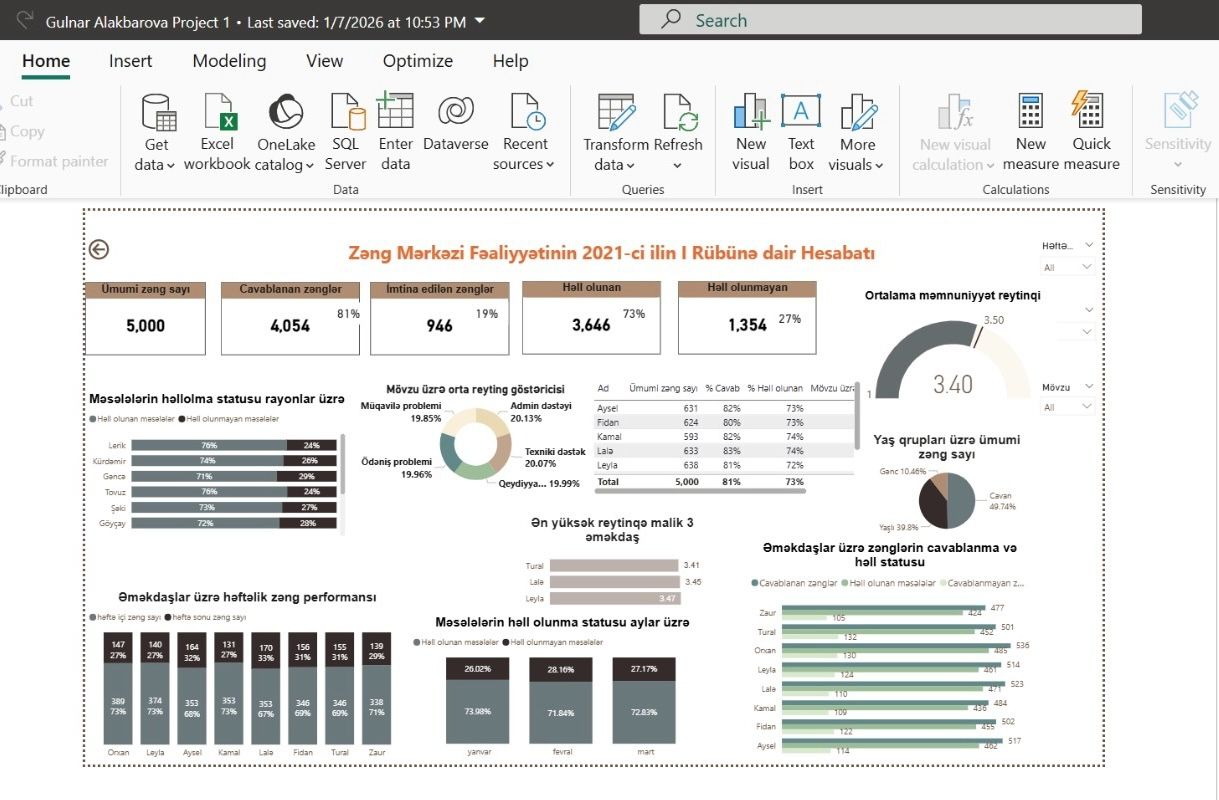

The page's visual inventory and layout, read from the dashboard file:
{"tool":"powerbi","page":{"name":"Call center Hesabat","canvas":[1500,780],"ordinal":0},"visuals":[{"type":"textbox","box":[276.8,0,1001,55.4],"z":0},{"type":"card","title":"Ümumi zəng sayı","fields":{"Values":["Hesablama cədvəli Databaza.Ümumi zəng sayı"]},"box":[0,68.1,177.2,107.5],"z":1000},{"type":"card","title":"Cavablanan zənglər","fields":{"Values":["Hesablama cədvəli Databaza.Cavablanan zənglər"]},"box":[199.9,68.1,204.4,107.5],"z":2000},{"type":"card","fields":{"Values":["Hesablama cədvəli Databaza.% Cavab"]},"box":[355.8,98.7,64.9,32.5],"z":3000},{"type":"card","title":"İmtina edilən zənglər","fields":{"Values":["Hesablama cədvəli Databaza.İmtina edilən zənglər"]},"box":[420.9,68.1,204.4,107.5],"z":4000},{"type":"card","fields":{"Values":["Hesablama cədvəli Databaza.% Imtina"]},"box":[559.7,98.7,64.9,32.5],"z":5000},{"type":"card","title":"Həll olunan ","fields":{"Values":["Hesablama cədvəli Databaza.Həll olunan məsələlər"]},"box":[644.1,67.4,204.1,108.2],"z":6000},{"type":"card","fields":{"Values":["Hesablama cədvəli Databaza.% Həll olunan"]},"box":[777.2,97.6,62.1,33.7],"z":7000},{"type":"card","title":"Həll olunmayan","fields":{"Values":["Hesablama cədvəli Databaza.Həll olunmayan məsələlər"]},"box":[874.8,67.4,204.1,108.2],"z":8000},{"type":"card","fields":{"Values":["Hesablama cədvəli Databaza.% Həll olunmayan"]},"box":[1016.8,104.7,44.4,33.7],"z":9000},{"type":"slicer","fields":{"Values":["Calendar table.İl"]},"box":[1398.3,95.8,101.1,71],"z":10000},{"type":"slicer","fields":{"Values":["Calendar table.Həftə gün adı"]},"box":[1398.3,0,101.1,81.6],"z":11000},{"type":"clusteredBarChart","title":"Əməkdaşlar üzrə zənglərin cavablanma və həll statusu","fields":{"Y":["Hesablama cədvəli Databaza.Cavablanan zənglər","Hesablama cədvəli Databaza.Həll olunan məsələlər","Hesablama cədvəli Databaza.Cavablanmayan zənglər"],"Category":["Customerinfo.Ad"]},"box":[976.7,450,421.7,330],"z":12000},{"type":"barChart","title":"Ən yüksək reytinqə malik 3 əməkdaş","fields":{"Category":["Customerinfo.Ad"],"Y":["Əməkdaşla bağlı cədvəl.1 Əməkdaşa düşən reyting"]},"box":[640,413.3,273.3,146.7],"z":13000},{"type":"gauge","title":"Ortalama məmnuniyyət reytinqi","fields":{"Y":["Avg(Databaza.Məmnuniyyət reytinqi)"],"MinValue":["Hesablama cədvəli Databaza.Min reyting"],"MaxValue":["Hesablama cədvəli Databaza.Max reyting"],"TargetValue":["Hesablama cədvəli Databaza.Target"]},"box":[1125,78.3,306.7,171.7],"z":14000},{"type":"slicer","fields":{"Values":["Databaza.Mövzu"]},"box":[1398.3,209.4,101.1,81.6],"z":15000},{"type":"actionButton","box":[0,0,100,40],"z":16000},{"type":"hundredPercentStackedColumnChart","title":"Əməkdaşlar üzrə həftəlik zəng performansı","fields":{"Category":["Customerinfo.Ad"],"Y":["Hesablama cədvəli Databaza.həftə içi zəng sayı","Hesablama cədvəli Databaza.həftə sonu zəng sayı"]},"box":[0,521.7,478.3,258.3],"z":17000},{"type":"hundredPercentStackedBarChart","title":"Məsələlərin həllolma statusu rayonlar üzrə","fields":{"Category":["Callerinfo.Rayon"],"Y":["Hesablama cədvəli Databaza.Həll olunan məsələlər","Hesablama cədvəli Databaza.Həll olunmayan məsələlər"]},"box":[0,230,388.3,218.3],"z":18000},{"type":"hundredPercentStackedColumnChart","title":"Məsələlərin həll olunma statusu aylar üzrə","fields":{"Category":["Calendar table.Ayın adı"],"Y":["Hesablama cədvəli Databaza.Həll olunan məsələlər","Hesablama cədvəli Databaza.Həll olunmayan məsələlər"]},"box":[478.3,560,451.7,220],"z":19000},{"type":"pieChart","title":"Yaş qrupları üzrə ümumi zəng sayı","fields":{"Category":["Callerinfo.Yaş qruplandırması"],"Y":["Hesablama cədvəli Databaza.Ümumi zəng sayı"]},"box":[1148.3,290,245,158.3],"z":20000},{"type":"donutChart","title":"Mövzu üzrə orta reyting göstəricisi","fields":{"Category":["Databaza.Mövzu"],"Y":["Hesablama cədvəli Databaza.Mövzu üzrə Orta reyting"]},"box":[405,215,340,165],"z":21000},{"type":"tableEx","fields":{"Values":["employeeinfo.Ad","Hesablama cədvəli Databaza.Ümumi zəng sayı","Hesablama cədvəli Databaza.% Cavab","Hesablama cədvəli Databaza.% Həll olunan","Hesablama cədvəli Databaza.Mövzu üzrə Orta reyting"]},"box":[745,210,403.3,176.7],"z":22000}]}

Visuals, with their boxes on the page's 1500x780 design canvas (x1, y1, x2, y2). These are canvas units, not pixel positions in the 1219x800 screenshot, which may show the page scaled, cropped or inside an application window:
textbox: x1=277, y1=0, x2=1278, y2=55
"Ümumi zəng sayı" card: x1=0, y1=68, x2=177, y2=176
"Cavablanan zənglər" card: x1=200, y1=68, x2=404, y2=176
card - Hesablama cədvəli Databaza.% Cavab: x1=356, y1=99, x2=421, y2=131
"İmtina edilən zənglər" card: x1=421, y1=68, x2=625, y2=176
card - Hesablama cədvəli Databaza.% Imtina: x1=560, y1=99, x2=625, y2=131
"Həll olunan " card: x1=644, y1=67, x2=848, y2=176
card - Hesablama cədvəli Databaza.% Həll olunan: x1=777, y1=98, x2=839, y2=131
"Həll olunmayan" card: x1=875, y1=67, x2=1079, y2=176
card - Hesablama cədvəli Databaza.% Həll olunmayan: x1=1017, y1=105, x2=1061, y2=138
slicer - Calendar table.İl: x1=1398, y1=96, x2=1499, y2=167
slicer - Calendar table.Həftə gün adı: x1=1398, y1=0, x2=1499, y2=82
"Əməkdaşlar üzrə zənglərin cavablanma və həll statusu" clusteredBarChart: x1=977, y1=450, x2=1398, y2=780
"Ən yüksək reytinqə malik 3 əməkdaş" barChart: x1=640, y1=413, x2=913, y2=560
"Ortalama məmnuniyyət reytinqi" gauge: x1=1125, y1=78, x2=1432, y2=250
slicer - Databaza.Mövzu: x1=1398, y1=209, x2=1499, y2=291
actionButton: x1=0, y1=0, x2=100, y2=40
"Əməkdaşlar üzrə həftəlik zəng performansı" hundredPercentStackedColumnChart: x1=0, y1=522, x2=478, y2=780
"Məsələlərin həllolma statusu rayonlar üzrə" hundredPercentStackedBarChart: x1=0, y1=230, x2=388, y2=448
"Məsələlərin həll olunma statusu aylar üzrə" hundredPercentStackedColumnChart: x1=478, y1=560, x2=930, y2=780
"Yaş qrupları üzrə ümumi zəng sayı" pieChart: x1=1148, y1=290, x2=1393, y2=448
"Mövzu üzrə orta reyting göstəricisi" donutChart: x1=405, y1=215, x2=745, y2=380
tableEx - employeeinfo.Ad x Hesablama cədvəli Databaza.Ümumi zəng sayı: x1=745, y1=210, x2=1148, y2=387
